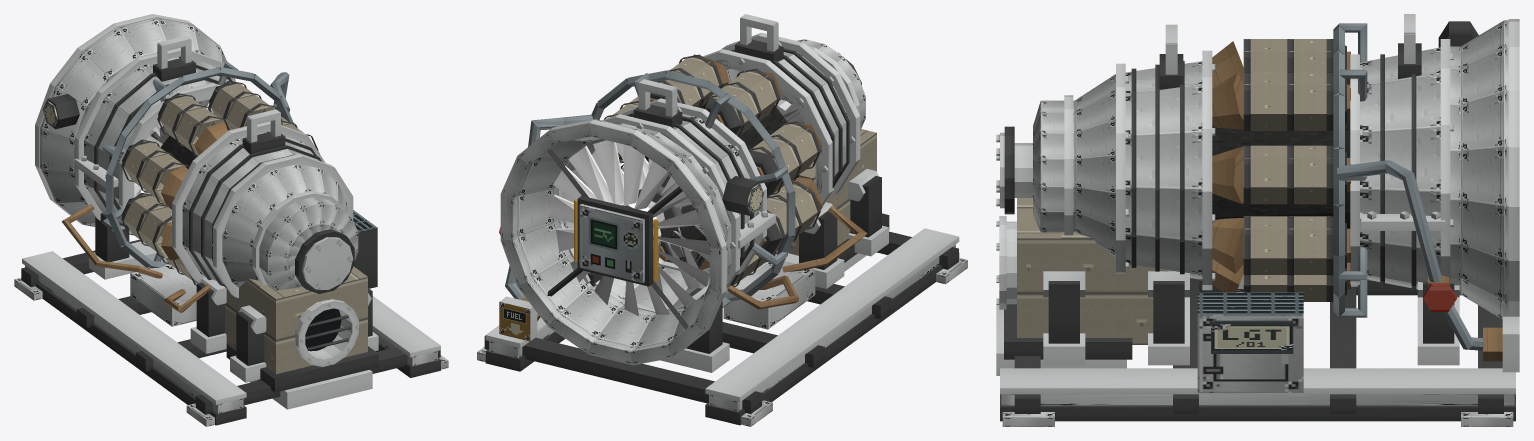
The model's file is large_gas_turbine.obj.
The picture shows the model from 3 angles, left to right: view 1: azimuth 30°, elevation 25°; view 2: azimuth 150°, elevation 25°; view 3: azimuth 270°, elevation 25°; orthographic projection. The views are drawn at different scales.
Parts seen in each view (by area): view 1: skid, rear_bearing, intake, exhaust_collector, combustors, mounts, turbine_bands, compressor_bands, lubrication, turbine_shell, compressor_shell, rear_exhaust (+15 smaller); view 2: intake, skid, rotor, combustors, mounts, turbine_bands, compressor_bands, lubrication, controller, fuel_rail, lifting_eyes, compressor_shell (+14 smaller); view 3: skid, combustor_cover, intake, exhaust_collector, turbine_cover, compressor_cover, rear_bearing, service_cabinet, mounts, turbine_cover_bands, compressor_cover_bands, fuel_rail_cover (+10 smaller).
Part boxes in pixels (x1,y1,x2,y2): skid: [14, 239, 448, 426]; rear_bearing: [222, 164, 358, 290]; intake: [35, 14, 235, 226]; exhaust_collector: [224, 266, 378, 392]; combustors: [121, 93, 229, 285]; mounts: [89, 213, 378, 382]; turbine_bands: [171, 131, 268, 298]; compressor_bands: [74, 58, 175, 233]; lubrication: [61, 204, 210, 326]; turbine_shell: [182, 140, 258, 284]; compressor_shell: [84, 66, 170, 224]; rear_exhaust: [295, 299, 358, 366]; intake: [500, 119, 731, 365]; skid: [477, 228, 967, 426]; rotor: [550, 69, 815, 316]; combustors: [696, 68, 822, 286]; mounts: [583, 169, 888, 372]; turbine_bands: [763, 43, 860, 227]; compressor_bands: [621, 109, 775, 312]; lubrication: [723, 205, 867, 329]; controller: [579, 204, 644, 283]; fuel_rail: [705, 81, 795, 307]; lifting_eyes: [633, 14, 783, 127]; compressor_shell: [624, 118, 756, 310]; skid: [1000, 278, 1515, 426]; combustor_cover: [1212, 72, 1350, 301]; intake: [1450, 19, 1519, 319]; exhaust_collector: [1004, 198, 1164, 359]; turbine_cover: [1125, 61, 1202, 279]; compressor_cover: [1360, 47, 1440, 289]; rear_bearing: [1033, 74, 1115, 258]; service_cabinet: [1197, 292, 1303, 392]; mounts: [1043, 270, 1459, 365]; turbine_cover_bands: [1116, 50, 1215, 290]; compressor_cover_bands: [1350, 39, 1453, 291]; fuel_rail_cover: [1333, 27, 1367, 317].
Size of the model in its own units: 2.89 by 2.74 by 4.
